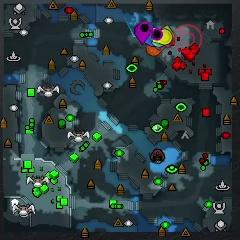p1: (145, 33, 154, 47)
p2: (151, 41, 163, 47)
p3: (135, 23, 148, 44)
p3Clone: (151, 28, 163, 41), (139, 22, 151, 33)
p4: (154, 29, 172, 44)
p5: (146, 46, 166, 56)
x2: (161, 25, 175, 36)
